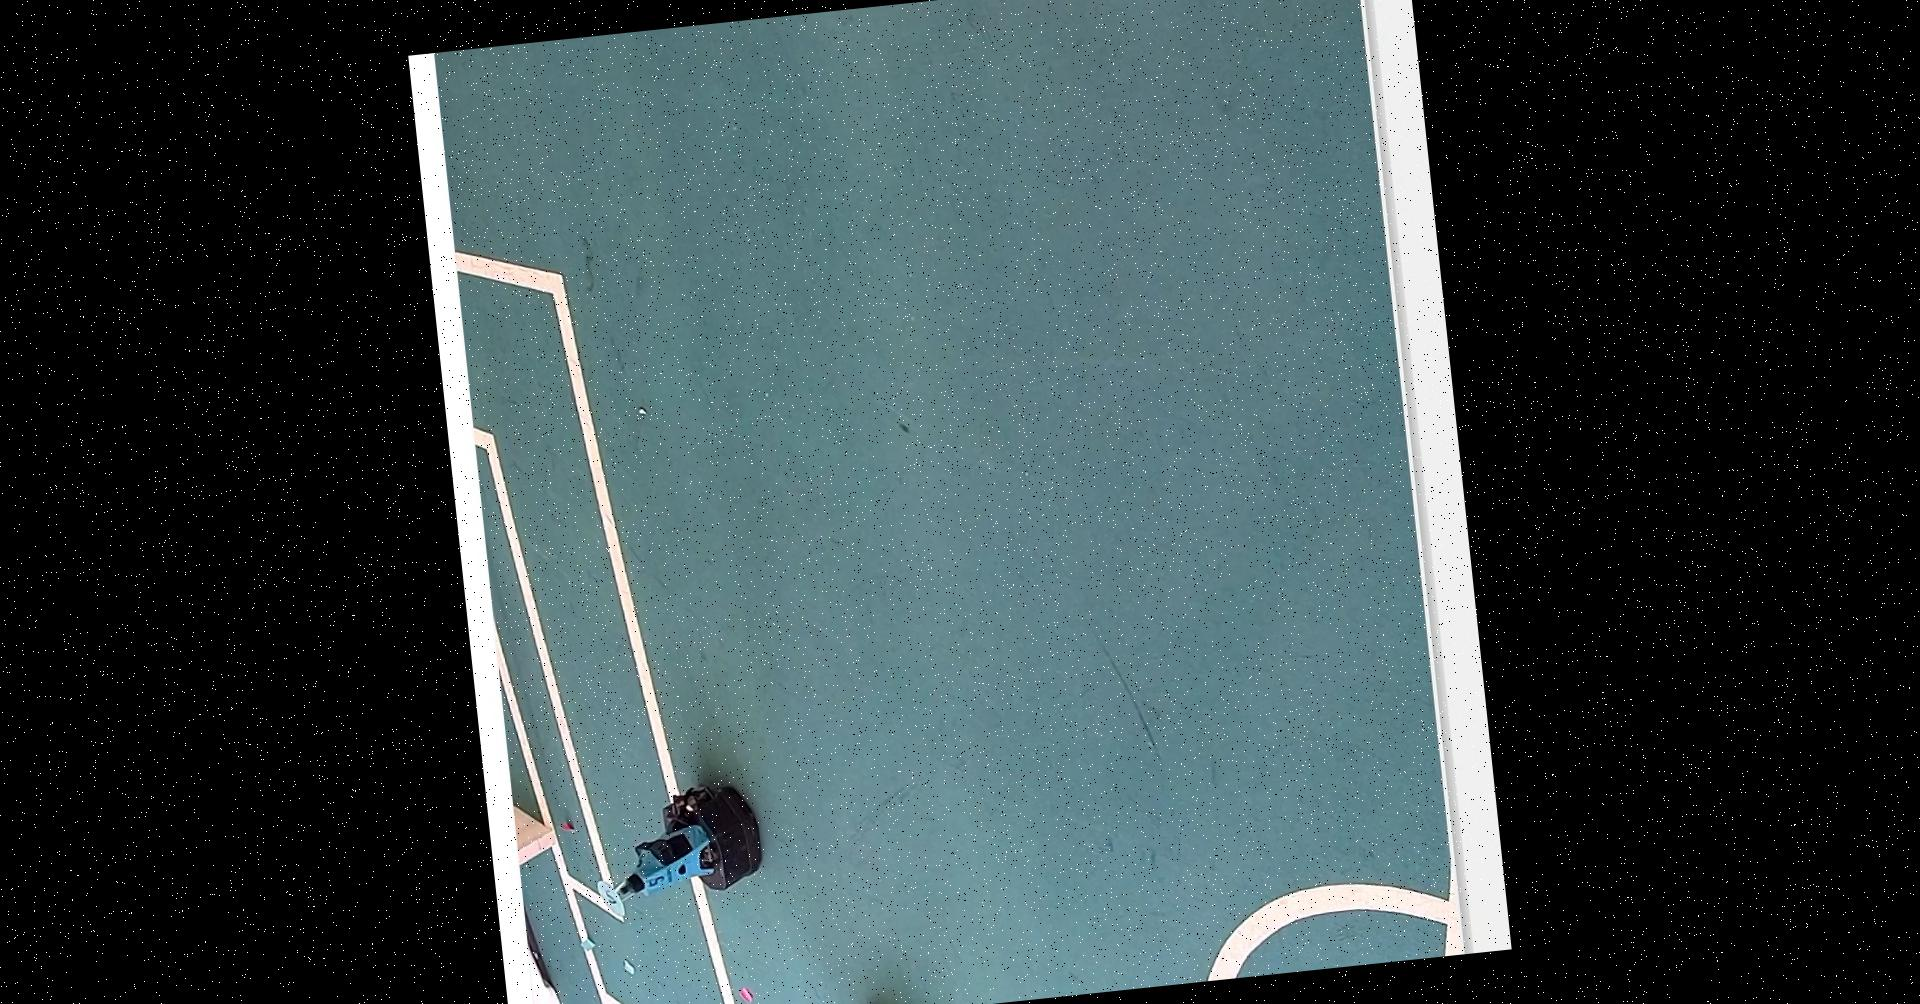Team_Blue: (577, 765, 771, 921)
